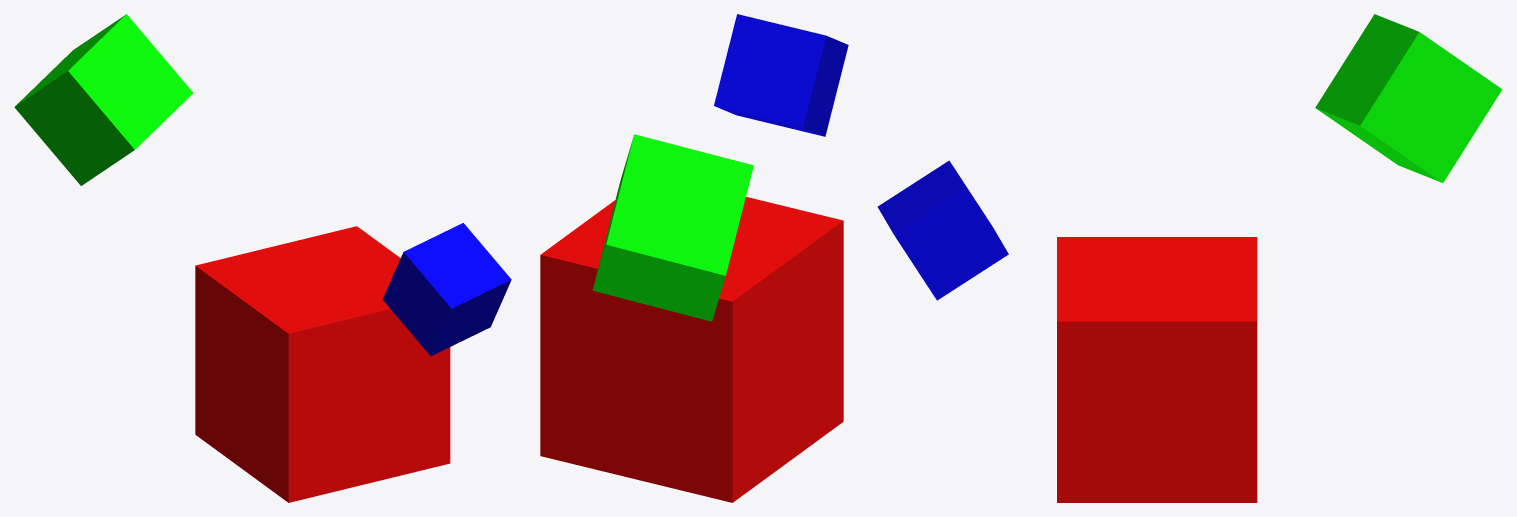
File: 3cube_color.glb
3 renders of one model, left to right at view 1: azimuth 30°, elevation 25°; view 2: azimuth 150°, elevation 25°; view 3: azimuth 270°, elevation 25°, orthographic. The views are drawn at different scales.
Parts seen in each view (by area): view 1: Cube, Cube.001, Cube.002; view 2: Cube, Cube.001, Cube.002; view 3: Cube, Cube.001, Cube.002.
Boxes of the visible parts, box(x1,y1,x2,y2) form: Cube: box(195, 226, 450, 502); Cube.001: box(14, 14, 193, 185); Cube.002: box(382, 223, 511, 355); Cube: box(540, 197, 843, 502); Cube.001: box(592, 134, 753, 321); Cube.002: box(714, 14, 848, 136); Cube: box(1057, 237, 1257, 502); Cube.001: box(1315, 14, 1502, 182); Cube.002: box(877, 160, 1008, 300).
Bounding box in the file's own units: 3.09 × 4.3 × 6.24.
